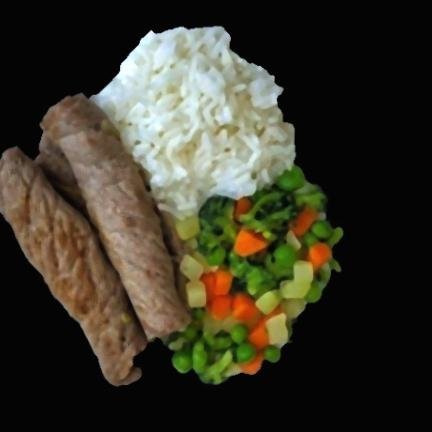green_vegetables: (163, 163, 343, 385)
meat: (0, 91, 188, 391)
rice: (84, 23, 297, 216)
